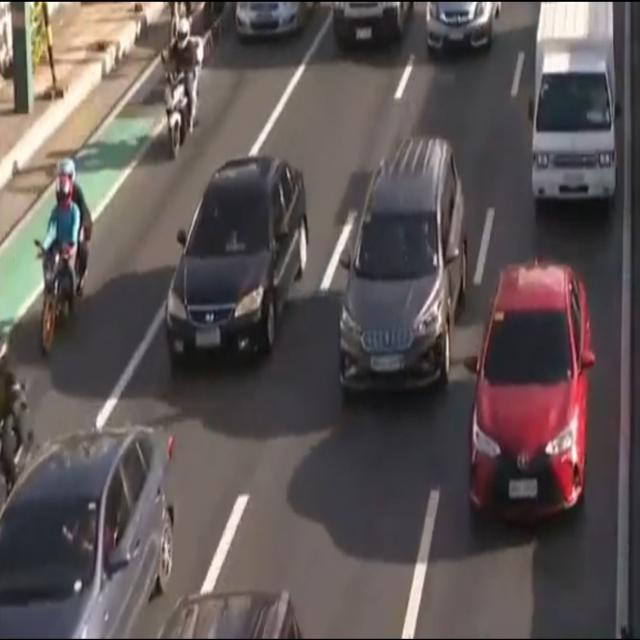Motorcycle: (31, 154, 94, 347), (156, 13, 202, 166), (0, 332, 36, 495)
Pick-up: (524, 0, 622, 201)
SUV: (336, 134, 465, 388)
Sedan: (2, 431, 170, 640), (463, 261, 593, 520), (162, 158, 308, 367)
